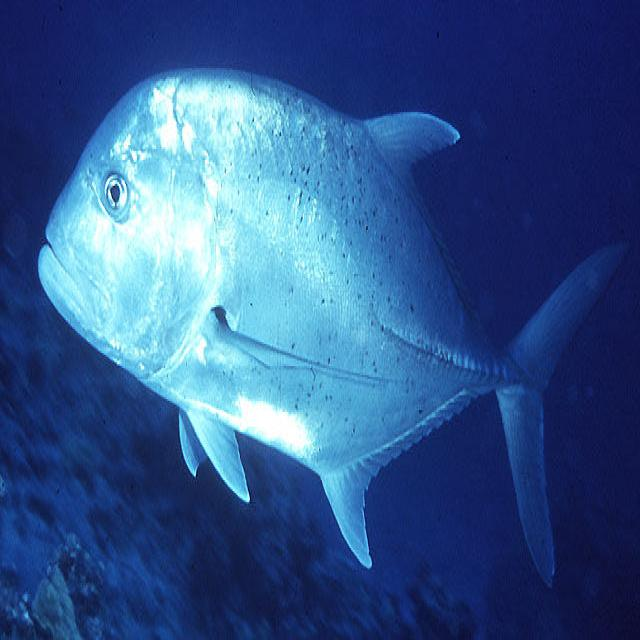ikan: (36, 62, 628, 588)
